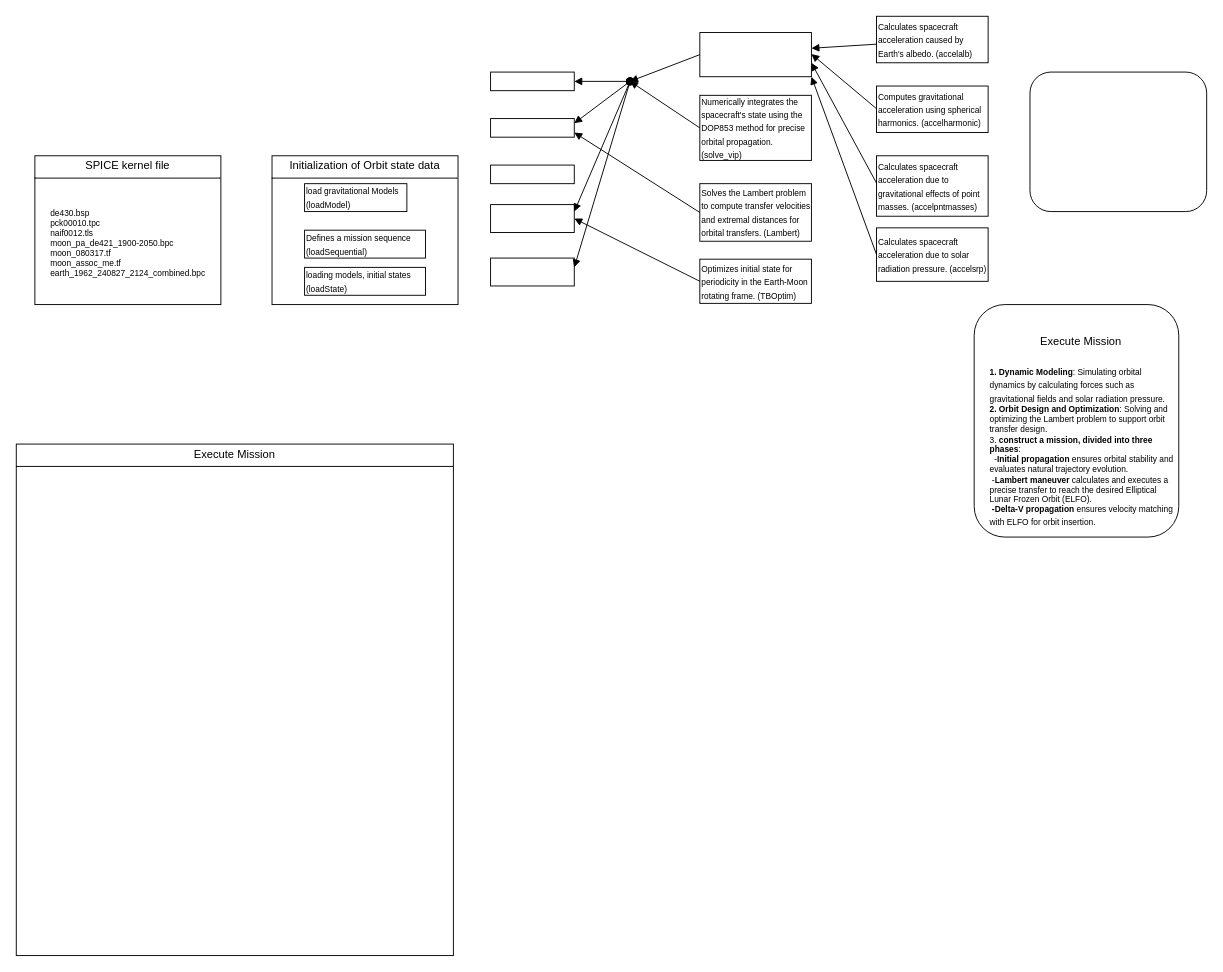
This 1223x972 diagram has some shape labels left out. The centre of each missing label's shape, as x and y in pixels:
"Computes the derivatives of a spacecraft's state vector,(Prophpop)" belongs at pixel 755 54.
"Delta-V Propagation" belongs at pixel 532 174.
"Free Propagation" belongs at pixel 532 81.
"Lambert Maneuver" belongs at pixel 532 127.
"Optimized Lambert Transfer" belongs at pixel 532 271.
"Result analysis and visualization" belongs at pixel 1118 141.
"Three-Body Problem Optimization" belongs at pixel 532 218.
